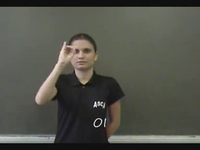oi: (59, 40, 78, 67)
